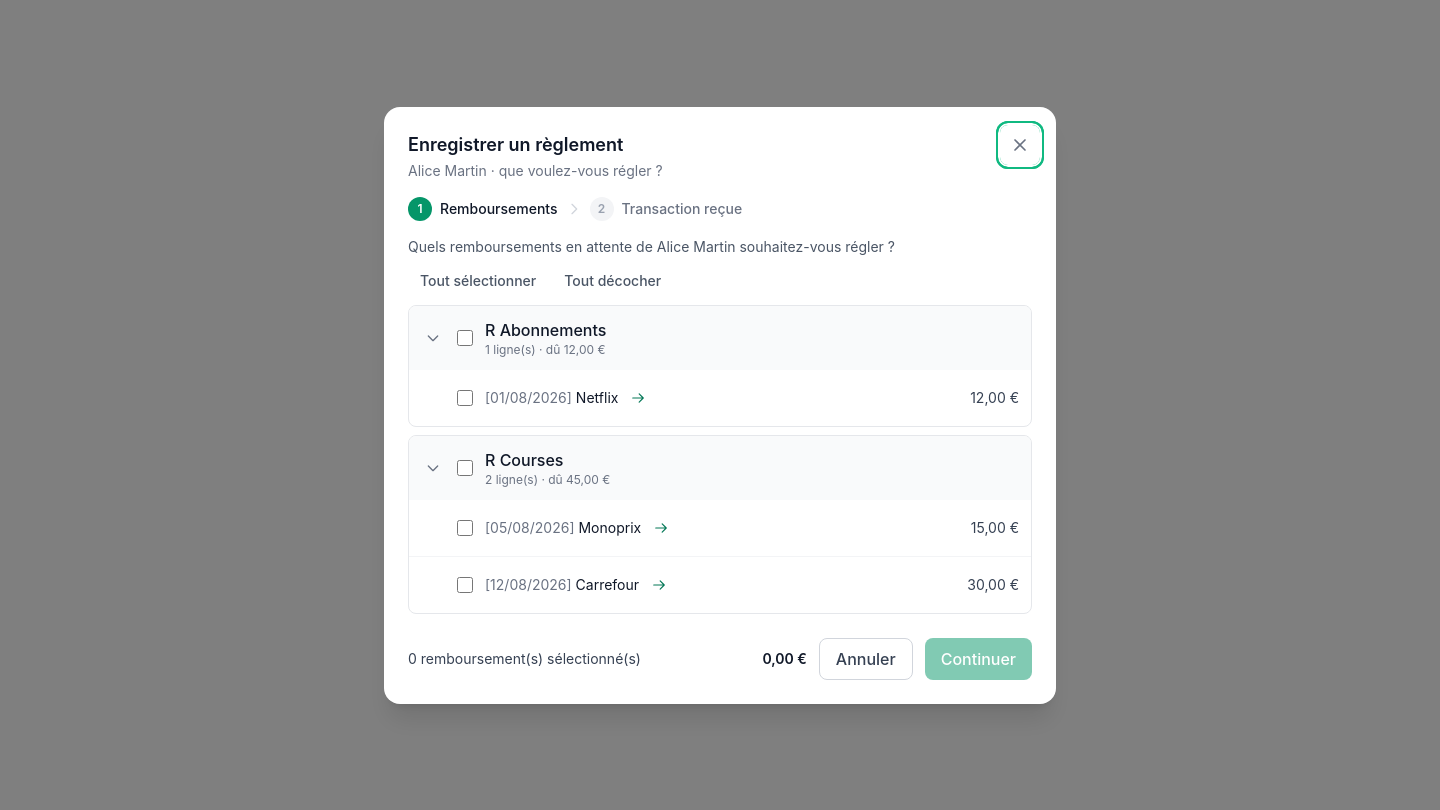
Test: SettlementModal › ranks a receipt matching the retained total exactly
Click the checkbox labelled "[12/08/2026] Carrefour 30,00 €" at (465, 584), box [457,576,473,592]
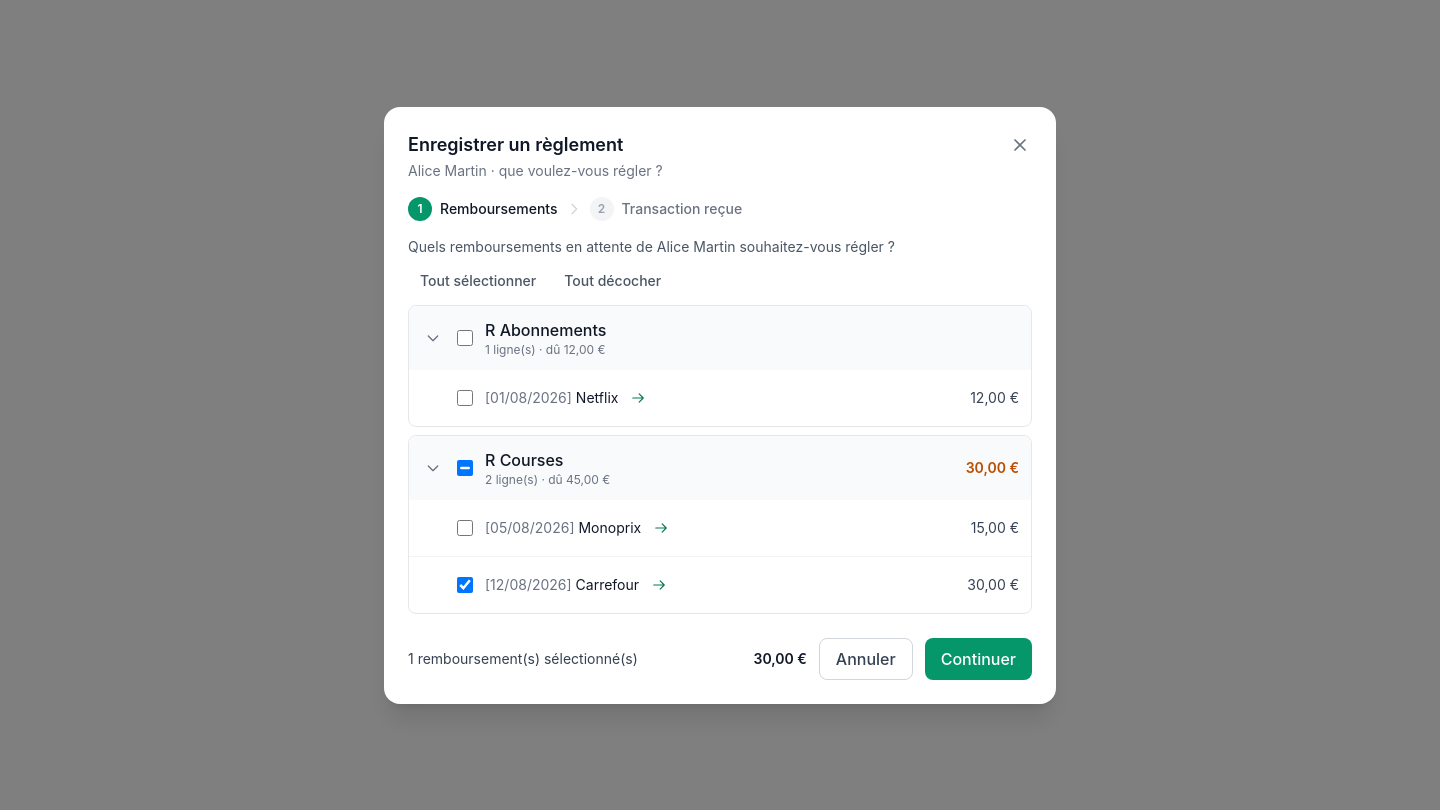
Click the button with test id "settlement-continue" at (978, 658), box [925,638,1032,680]
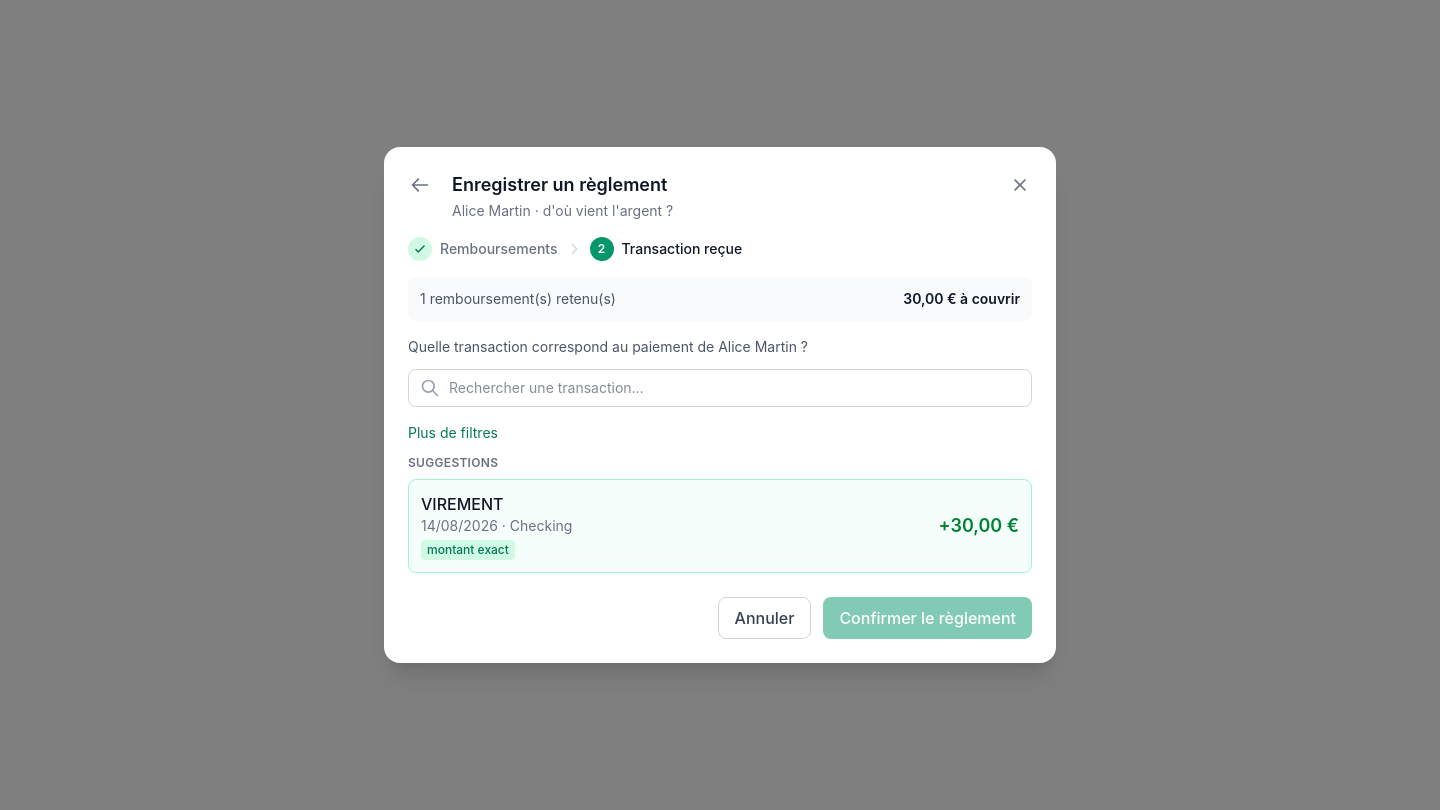
Result: the text "montant exact" is shown at [421,540,515,560]
